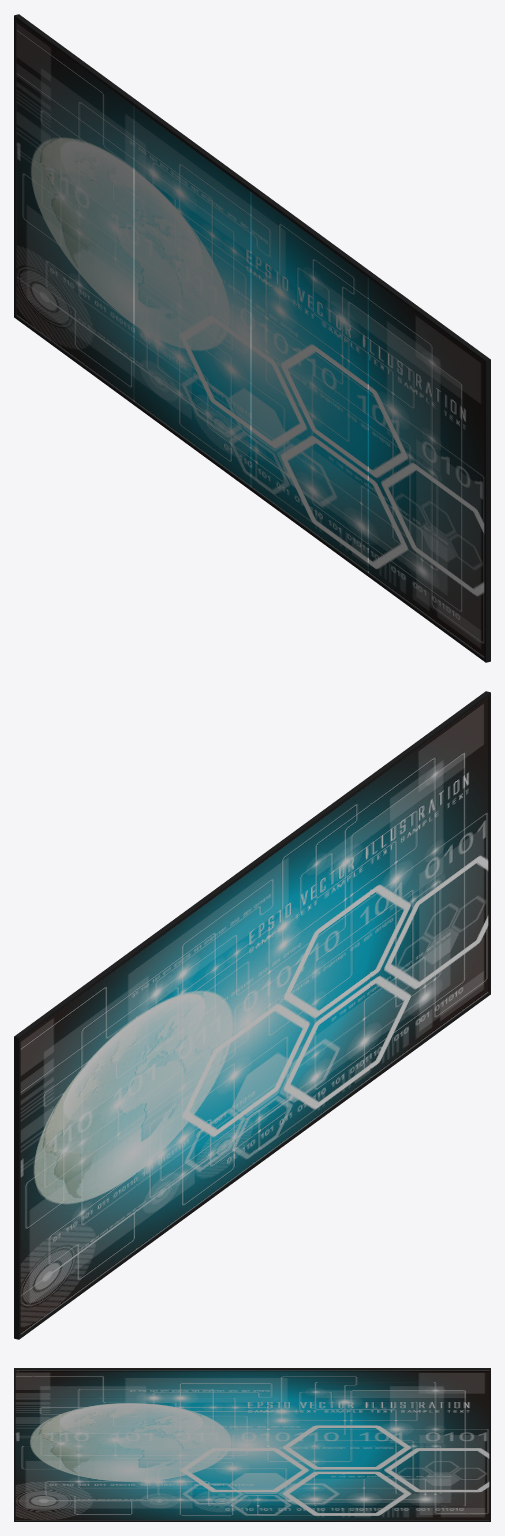
The model's file is 大显示器_2.fbx.
3 views of the same model, one above another, from view 1: azimuth 30°, elevation 25°; view 2: azimuth 150°, elevation 25°; view 3: azimuth 270°, elevation 25° (orthographic). The views are drawn at different scales.
Parts seen in each view (by area): view 1: Rectangle2106775292, Rectangle2106775291; view 2: Rectangle2106775292, Rectangle2106775291; view 3: Rectangle2106775292, Rectangle2106775291.
Part boxes in pixels (x1,y1,x2,y2): Rectangle2106775292: [16, 20, 484, 657]; Rectangle2106775291: [14, 14, 490, 662]; Rectangle2106775292: [20, 697, 488, 1334]; Rectangle2106775291: [14, 691, 490, 1339]; Rectangle2106775292: [15, 1370, 489, 1520]; Rectangle2106775291: [14, 1368, 490, 1521].
Size of the model in its own units: 28 by 1589 by 4502.
2 materials, 1 textured.
